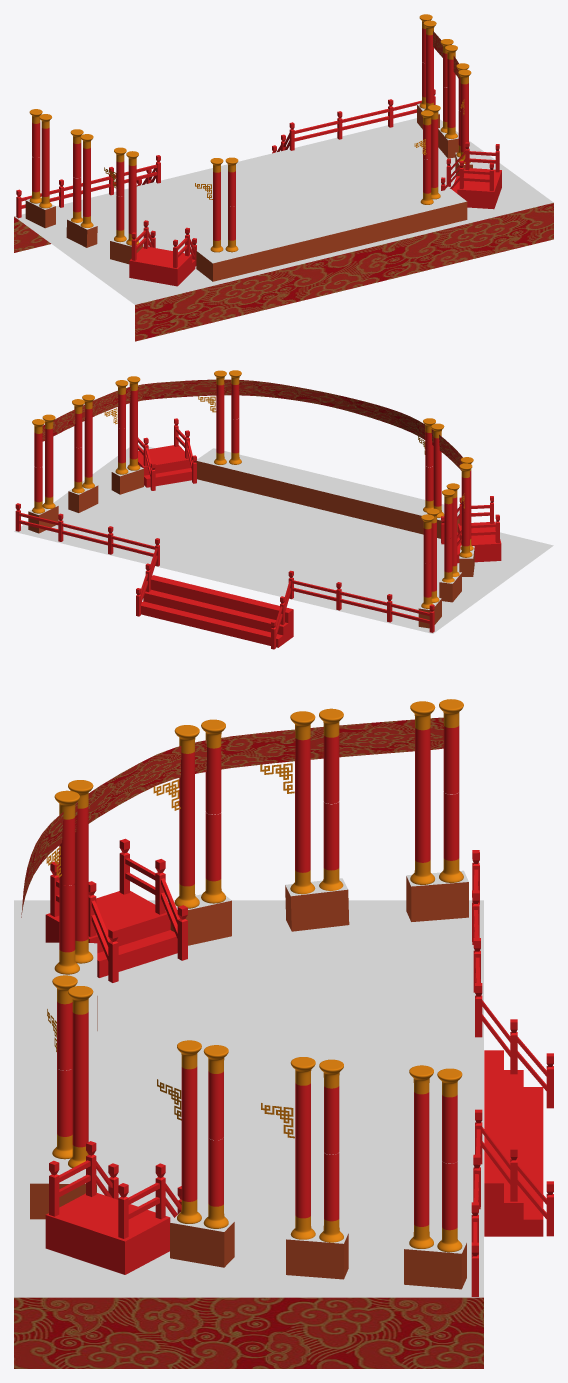
Rendered from stage1x2color.glb.
The picture shows the model from 3 angles, top to bottom: view 1: azimuth 30°, elevation 25°; view 2: azimuth 150°, elevation 25°; view 3: azimuth 270°, elevation 25°; orthographic projection. The views are drawn at different scales.
Parts seen in each view (by area): view 1: sankhau, de.002, cau_thang_phu.000, cot.003, cot.001, cot.000, hangraochinh.001, cot.004, cot.006, hangraochinh.000, cau_thang_phu.001, cot.007 (+10 smaller); view 2: sankhau, de.002, cau_thang_chinh, vom, hangraochinh.000, hangraochinh.001, cot.006, cot.002, cot.007, cot.005, cau_thang_phu.001, cot.004 (+12 smaller); view 3: sankhau, vom, de.002, cau_thang_chinh, cau_thang_phu.001, cot.005, cot.003, cot.000, cot.001, cot.002, cot.007, cot.006 (+14 smaller).
Boxes of the visible parts, x1=… form: sankhau: x1=14, y1=118, x2=553, y2=341; de.002: x1=196, y1=189, x2=467, y2=281; cau_thang_phu.000: x1=129, y1=247, x2=195, y2=286; cot.003: x1=29, y1=109, x2=51, y2=208; cot.001: x1=114, y1=147, x2=138, y2=245; cot.000: x1=70, y1=129, x2=93, y2=227; hangraochinh.001: x1=272, y1=89, x2=435, y2=153; cot.004: x1=210, y1=157, x2=238, y2=252; cot.006: x1=420, y1=105, x2=440, y2=204; hangraochinh.000: x1=16, y1=155, x2=160, y2=218; cau_thang_phu.001: x1=452, y1=168, x2=501, y2=209; cot.007: x1=440, y1=39, x2=457, y2=138; sankhau: x1=14, y1=444, x2=553, y2=633; de.002: x1=196, y1=448, x2=459, y2=538; cau_thang_chinh: x1=141, y1=575, x2=293, y2=647; vom: x1=42, y1=379, x2=462, y2=470; hangraochinh.000: x1=271, y1=570, x2=434, y2=649; hangraochinh.001: x1=15, y1=503, x2=159, y2=616; cot.006: x1=214, y1=370, x2=241, y2=464; cot.002: x1=32, y1=414, x2=55, y2=513; cot.007: x1=72, y1=394, x2=94, y2=493; cot.005: x1=115, y1=376, x2=140, y2=474; cau_thang_phu.001: x1=138, y1=445, x2=191, y2=487; cot.004: x1=423, y1=418, x2=444, y2=517; sankhau: x1=14, y1=900, x2=483, y2=1368; vom: x1=21, y1=717, x2=443, y2=917; de.002: x1=30, y1=942, x2=97, y2=1219; cau_thang_chinh: x1=484, y1=1050, x2=543, y2=1236; cau_thang_phu.001: x1=45, y1=1192, x2=170, y2=1274; cot.005: x1=177, y1=1040, x2=228, y2=1228; cot.003: x1=410, y1=699, x2=463, y2=884; cot.000: x1=290, y1=708, x2=343, y2=894; cot.001: x1=174, y1=719, x2=225, y2=908; cot.002: x1=409, y1=1065, x2=462, y2=1252; cot.007: x1=290, y1=1057, x2=343, y2=1242; cot.006: x1=52, y1=975, x2=93, y2=1168.
Bounding box in the file's own units: 27 × 8.93 × 15.51.
4 materials, 1 textured.
